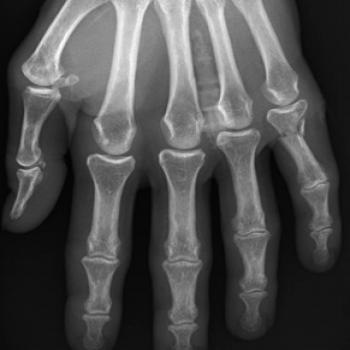Fracture: (273, 115, 319, 146)
